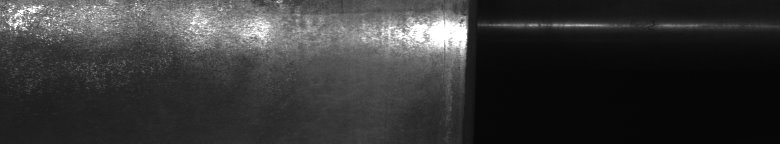ke: (28, 4, 300, 79)
